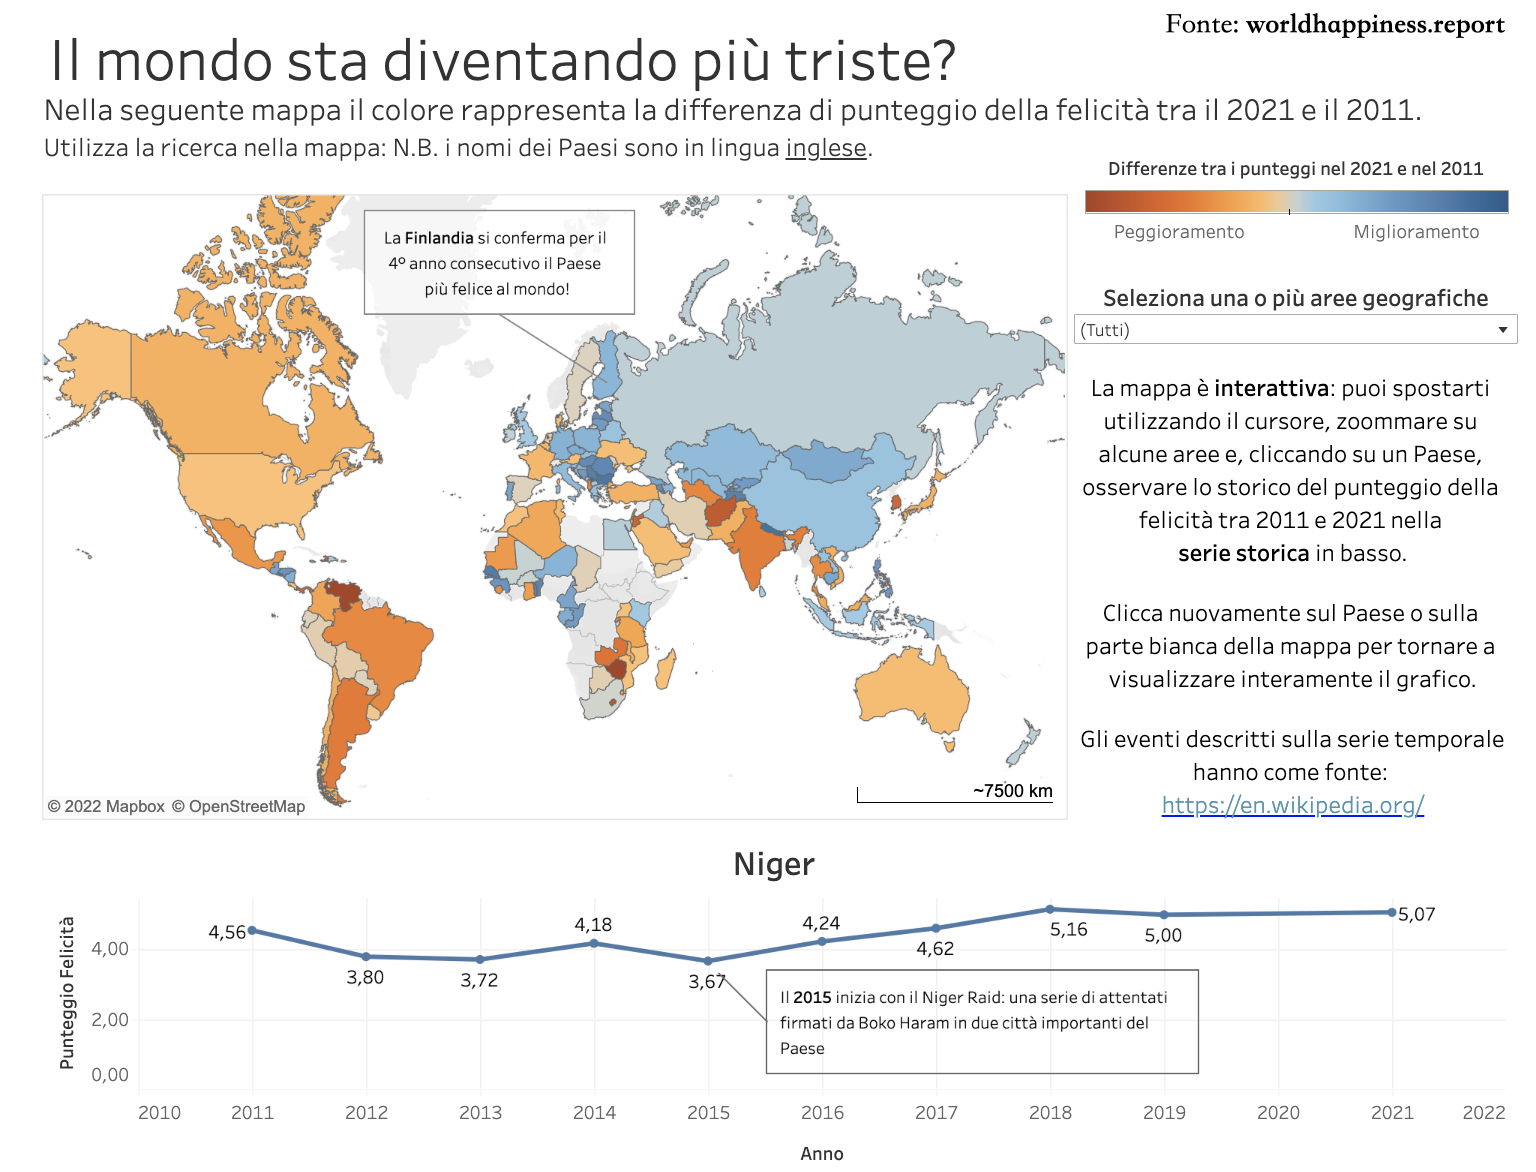

This screenshot's page, from the dashboard's own definition file:
{"tool":"tableau","page":{"name":"Dashboard 2","canvas":[1000,800],"ordinal":1},"visuals":[{"type":"text","box":[761,3,240,36]},{"type":"worksheet","title":"Foglio 9","mark":"Multipolygon","box":[8,8,692,548]},{"type":"blank","box":[700,8,292.1,240]},{"type":"text","box":[13,64,970,52]},{"type":"text","box":[707,98,282,38]},{"type":"legend","title":"Foglio 9","param":"[federated.0grs2by17bjg0w1flmxxg0bvuvyg (copia)].[sum:diff.Ladder (simo.csv):qk]","box":[703,128,291,25]},{"type":"text","box":[707,149,283,21]},{"type":"filter","title":"Foglio 9","param":"[federated.0grs2by17bjg0w1flmxxg0bvuvyg (copia)].[none:Regional indicator_y:nk]","box":[699,192,298,88]},{"type":"text","box":[700,248,292.1,308]},{"type":"worksheet","title":"Foglio 8","mark":"Automatic","rows":["Life Ladder (diffapp.csv)"],"cols":["year (diffapp.csv)"],"box":[8,556,984,236]}]}

Visuals, with their boxes on the page's 1000x800 design canvas (x1, y1, x2, y2). These are canvas units, not pixel positions in the 1536x1172 screenshot, which may show the page scaled, cropped or inside an application window:
text: [x1=761, y1=3, x2=1001, y2=39]
"Foglio 9" worksheet (Multipolygon marks): [x1=8, y1=8, x2=700, y2=556]
blank: [x1=700, y1=8, x2=992, y2=248]
text: [x1=13, y1=64, x2=983, y2=116]
text: [x1=707, y1=98, x2=989, y2=136]
"Foglio 9" legend: [x1=703, y1=128, x2=994, y2=153]
text: [x1=707, y1=149, x2=990, y2=170]
"Foglio 9" filter: [x1=699, y1=192, x2=997, y2=280]
text: [x1=700, y1=248, x2=992, y2=556]
"Foglio 8" worksheet: [x1=8, y1=556, x2=992, y2=792]
